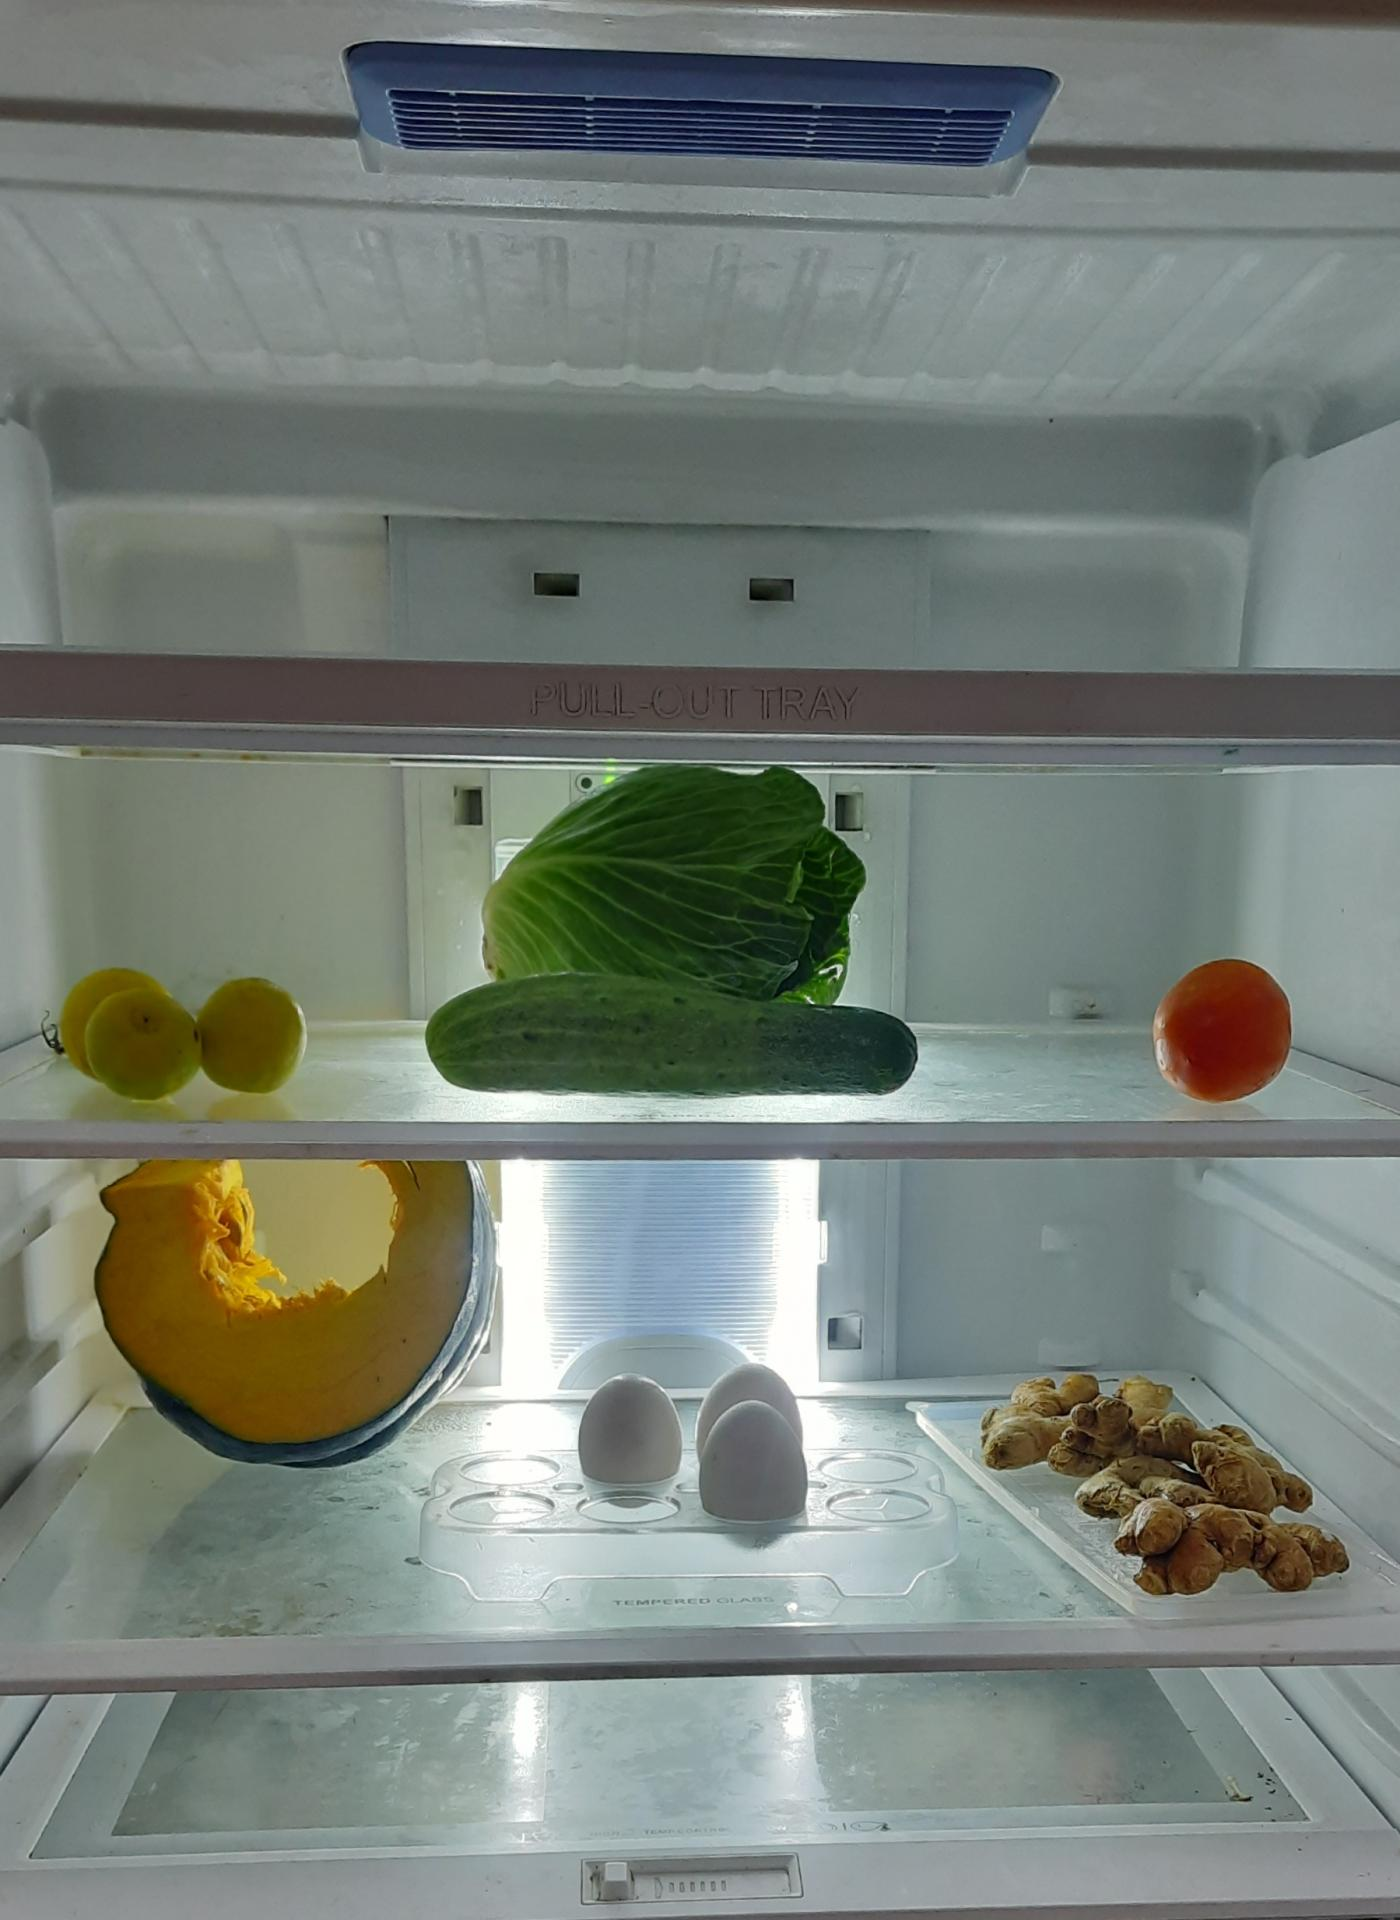cabbage: (483, 771, 871, 1000)
cucumber: (407, 966, 932, 1105)
ginger: (987, 1352, 1358, 1583)
lemon: (574, 1357, 810, 1537), (49, 972, 307, 1103)
pumpkin: (92, 1158, 513, 1461)
tomato: (1150, 957, 1299, 1106)
